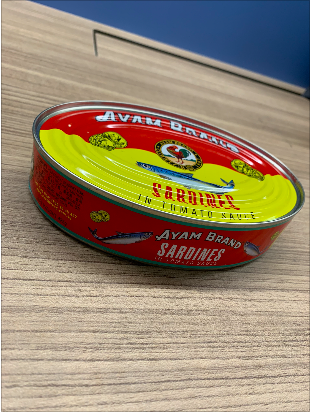Sardines_400-499g: (58, 112, 260, 254)
